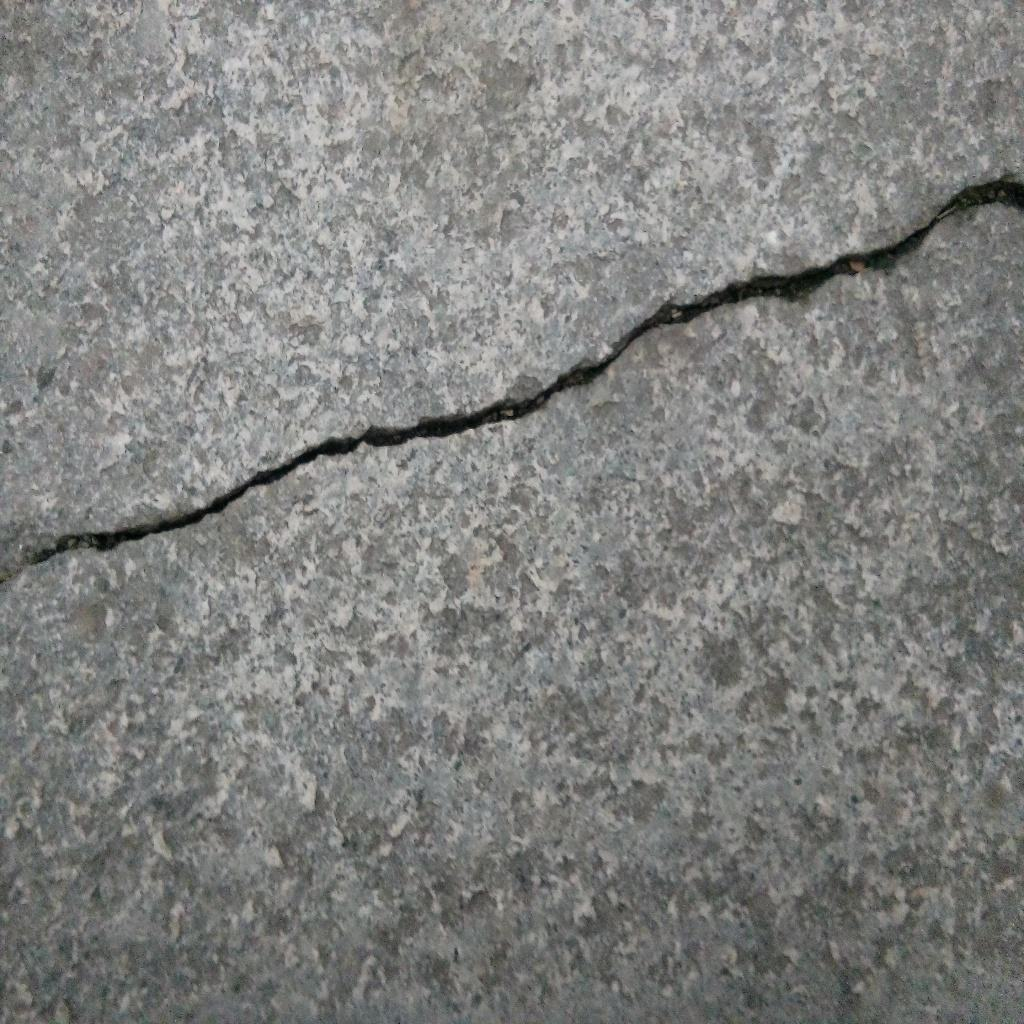Crack: (1, 176, 1024, 598)
